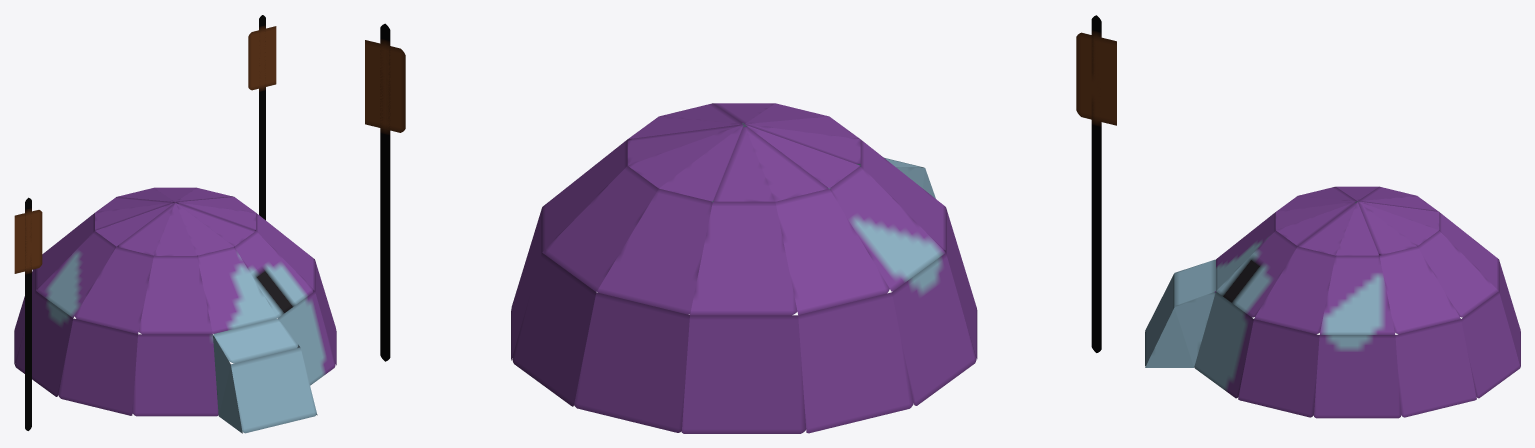
File: pond-troll.obj
3 views of the same model, side by side, from view 1: azimuth 30°, elevation 25°; view 2: azimuth 150°, elevation 25°; view 3: azimuth 270°, elevation 25° (orthographic). The views are drawn at different scales.
Visible parts, largest first — view 1: cylinder; view 2: cylinder; view 3: cylinder.
Part boxes in pixels (left/top/right/bottom): cylinder: left=14, top=15, right=336, bottom=433; cylinder: left=365, top=15, right=1116, bottom=433; cylinder: left=1145, top=186, right=1520, bottom=418.
Bounding box in the file's own units: 0.875 × 0.5 × 0.7188.
1 material, 1 textured.
